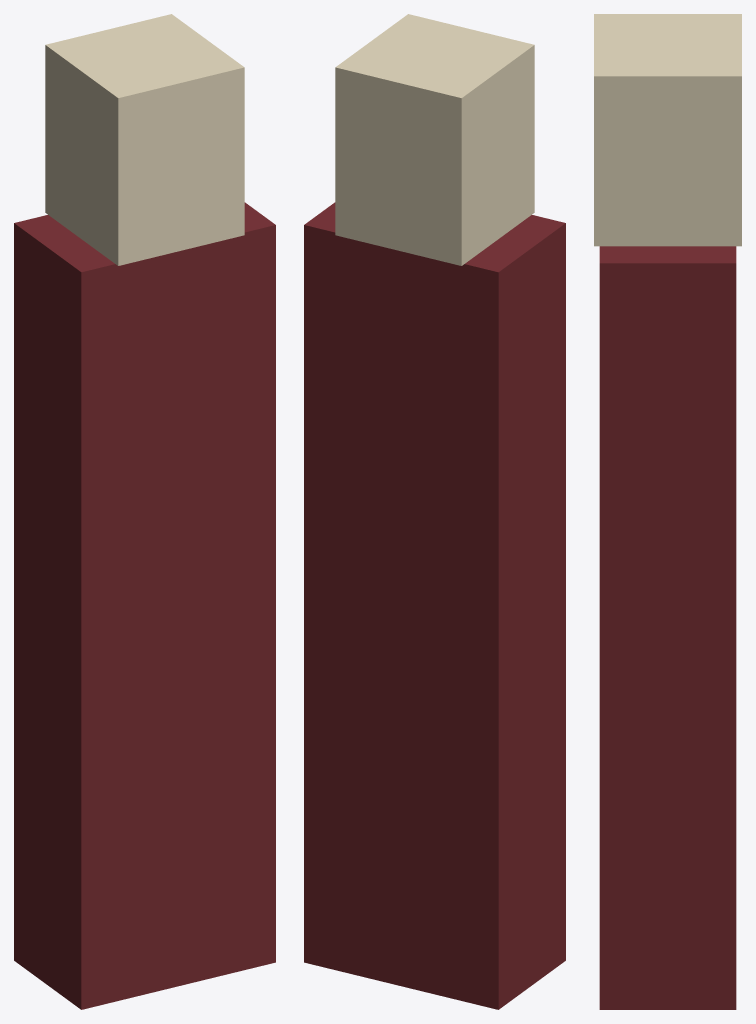
File: life_person_c_far.glb
3 views of the same model, side by side, from view 1: azimuth 30°, elevation 25°; view 2: azimuth 150°, elevation 25°; view 3: azimuth 270°, elevation 25° (orthographic).
Visible parts, largest first — view 1: life_person_c_far; view 2: life_person_c_far; view 3: life_person_c_far.
Part boxes in pixels (box(x1,y1,x2,y2)): life_person_c_far: box(14, 14, 275, 1009); life_person_c_far: box(304, 14, 565, 1009); life_person_c_far: box(594, 14, 741, 1009).
Size of the model in its own units: 0.4 by 1.78 by 0.26.
